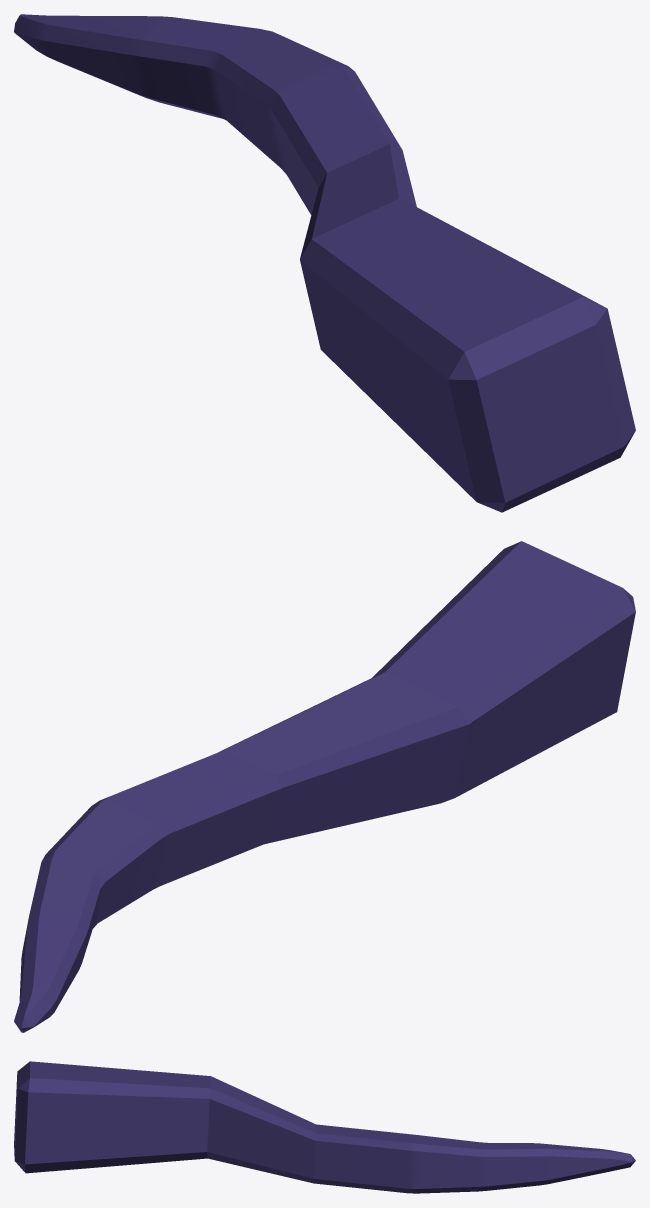
Rendered from tentacle.fbx.
3 renders of one model, top to bottom at view 1: azimuth 30°, elevation 25°; view 2: azimuth 150°, elevation 25°; view 3: azimuth 270°, elevation 25°, orthographic. The views are drawn at different scales.
Parts seen in each view (by area): view 1: pCube1; view 2: pCube1; view 3: pCube1.
Part boxes in pixels (box(x1,y1,x2,y2)): pCube1: box(14, 14, 635, 512); pCube1: box(14, 541, 635, 1032); pCube1: box(14, 1061, 635, 1193).
Bounding box in the file's own units: 4.73 × 3.06 × 17.15.
